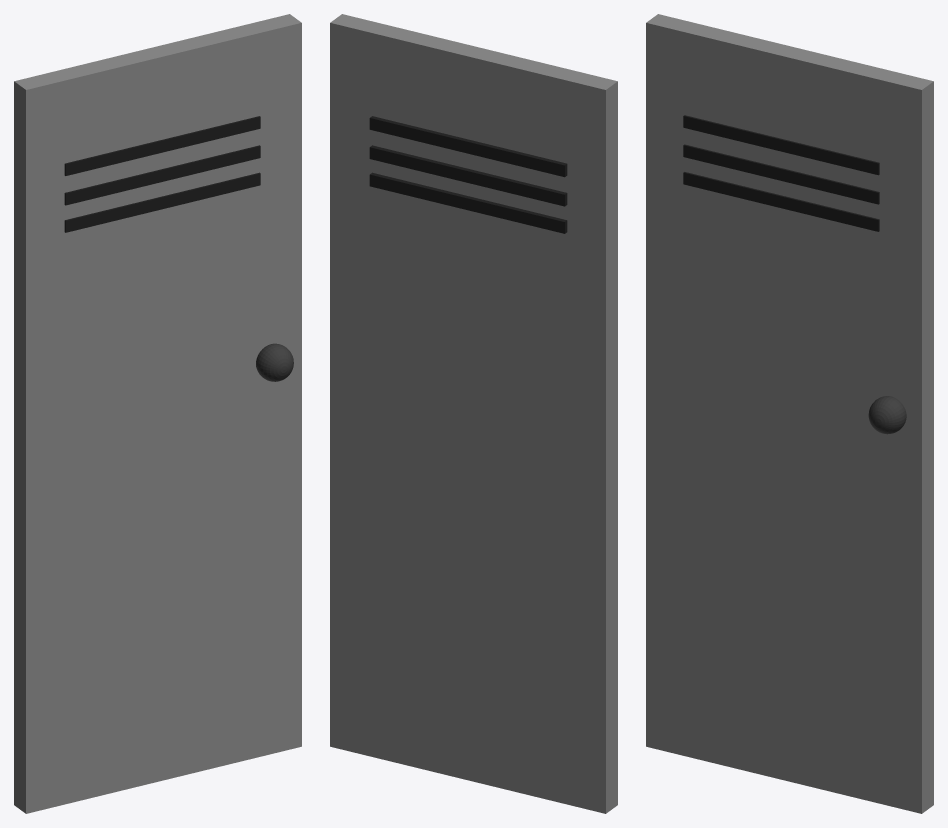
File: LockerDoor.fbx
3 views of the same model, side by side, from view 1: azimuth 30°, elevation 25°; view 2: azimuth 150°, elevation 25°; view 3: azimuth 330°, elevation 25° (orthographic).
Visible parts, largest first — view 1: Cube.007; view 2: Cube.007; view 3: Cube.007.
Boxes of the visible parts, x1,y1,x2,y2 form: Cube.007: (14,14,301,813); Cube.007: (330,14,617,813); Cube.007: (646,14,933,813).
Size of the model in its own units: 90.28 by 227 by 15.69.
1 material, 1 textured.
